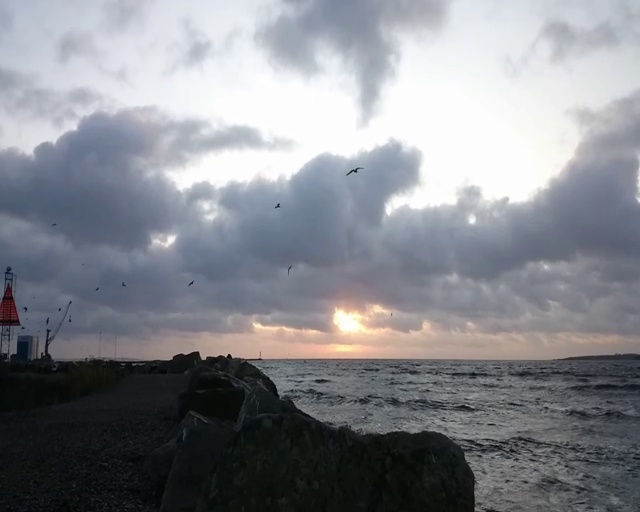BIRD: (40, 299, 74, 360)
